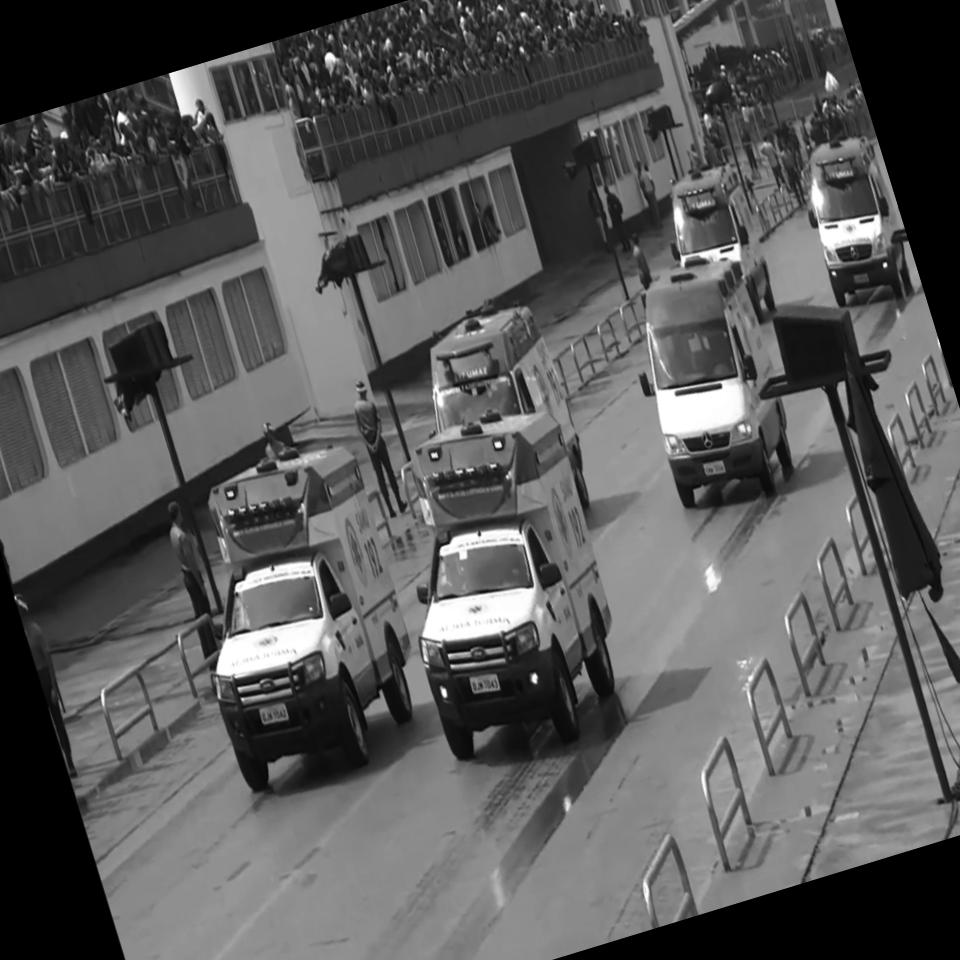bombeiro: (358, 391, 650, 776), (153, 428, 442, 799), (610, 242, 809, 520), (788, 128, 918, 316)
